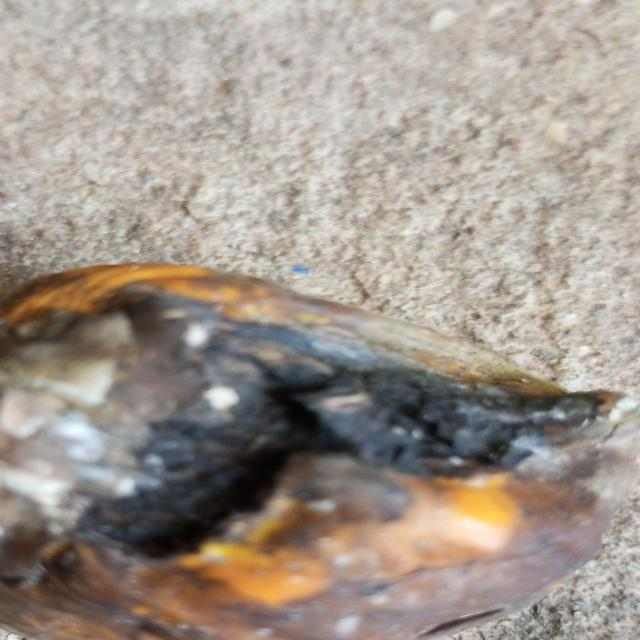damaged: (0, 263, 640, 640)
